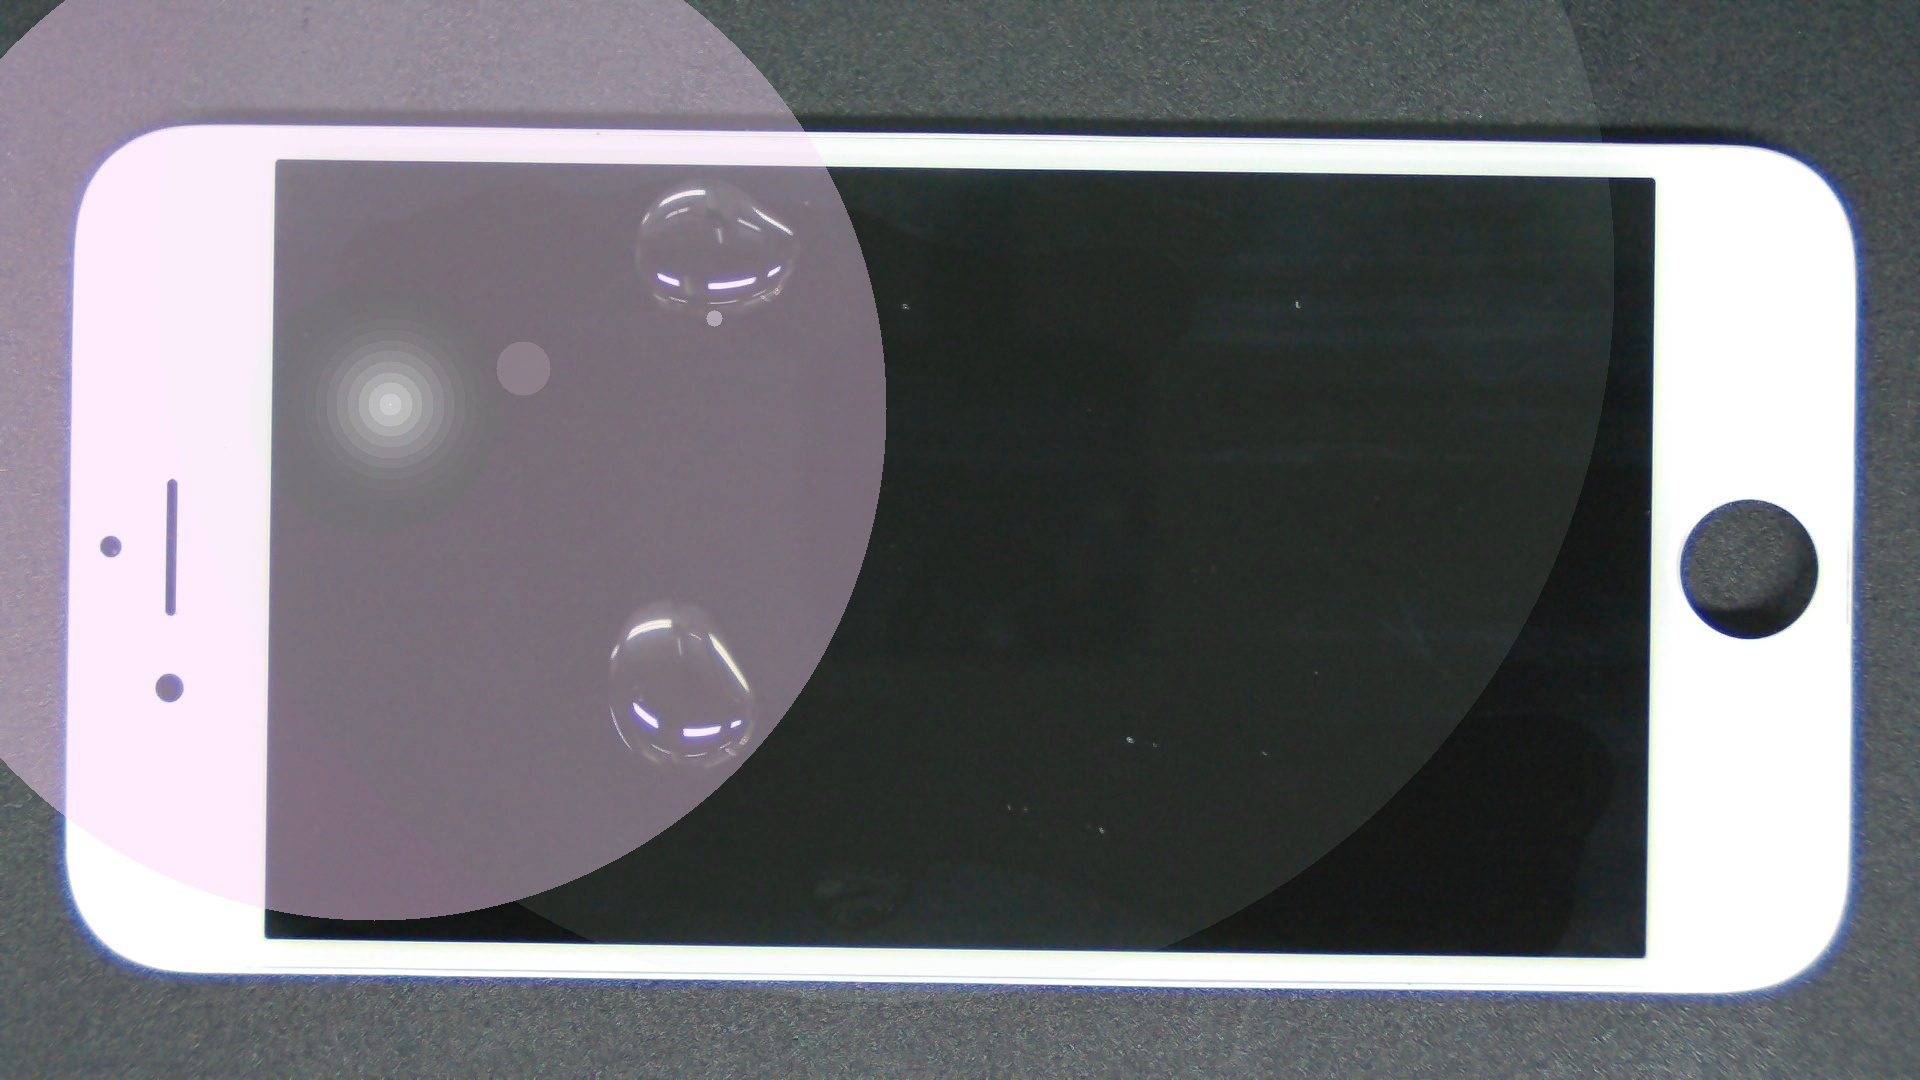oil: (334, 298, 1000, 898), (352, 87, 1055, 265)
